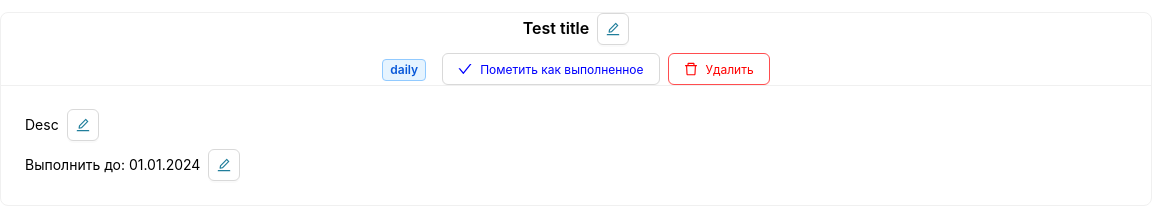
NoteItem tests › delete button displays Вы уверены? text
Click the button "Удалить". click: (719, 69)
box: [668,53,770,85]
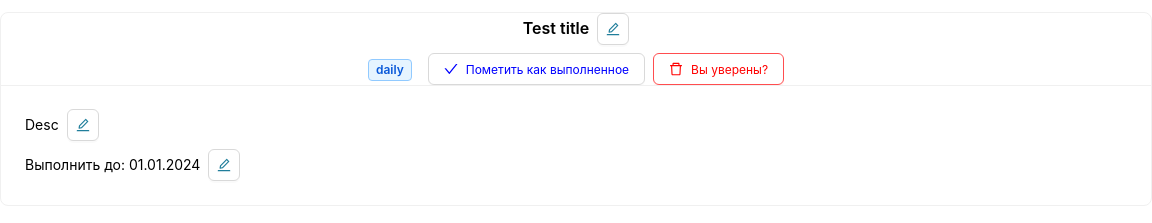
Check: the text "Вы уверены?" is shown, box [691,62,768,76]
